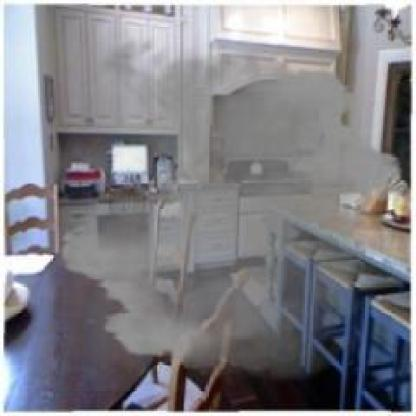Smoke: (49, 26, 414, 390)
